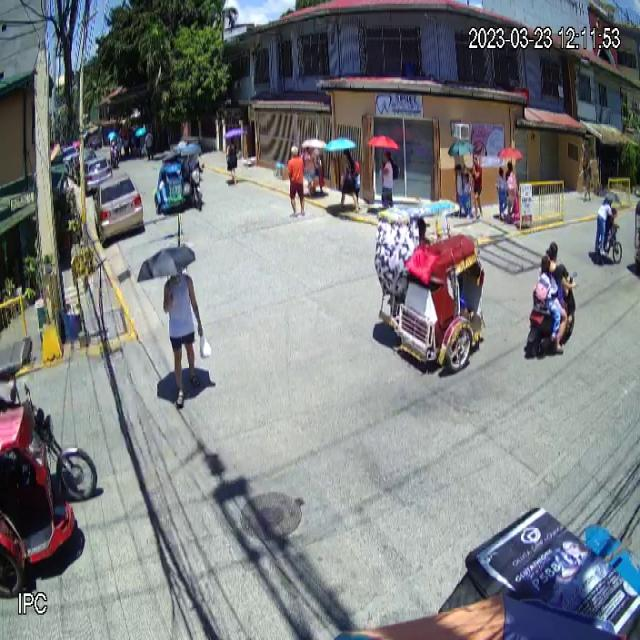Car: (92, 172, 144, 244)
Motorcycle: (526, 270, 577, 359)
Tricycle: (376, 199, 486, 373)
